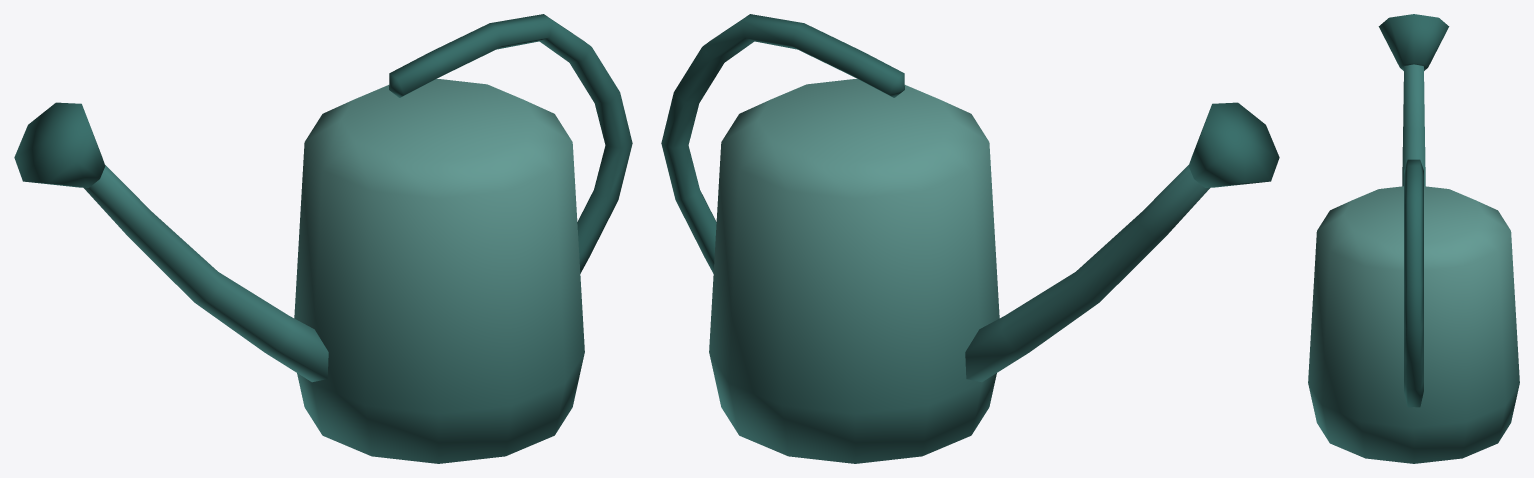
File: watering_can.glb
3 views of the same model, side by side, from view 1: azimuth 30°, elevation 25°; view 2: azimuth 150°, elevation 25°; view 3: azimuth 270°, elevation 25° (orthographic). The views are drawn at different scales.
Visible parts, largest first — view 1: watering_can; view 2: watering_can; view 3: watering_can.
Part boxes in pixels (left/top/right/bottom): watering_can: left=14, top=14, right=632, bottom=463; watering_can: left=661, top=14, right=1279, bottom=463; watering_can: left=1308, top=14, right=1519, bottom=463.
Bounding box in the file's own units: 0.5734 × 0.3535 × 0.24.
